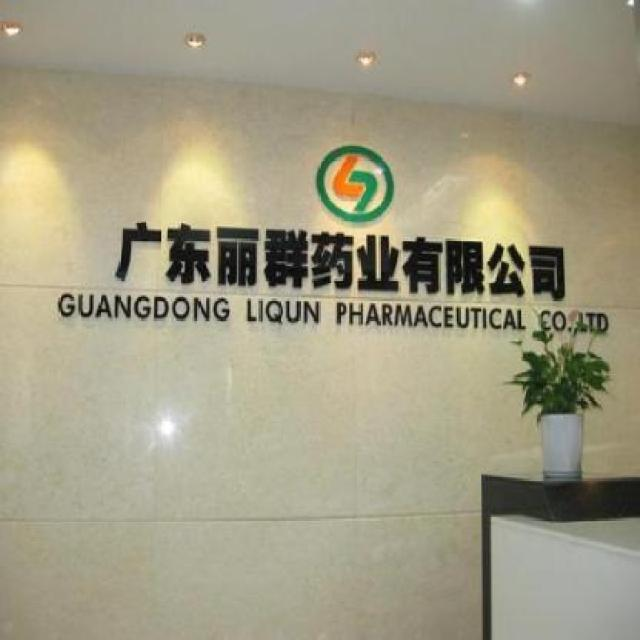frontdesk: (457, 463, 640, 639)
